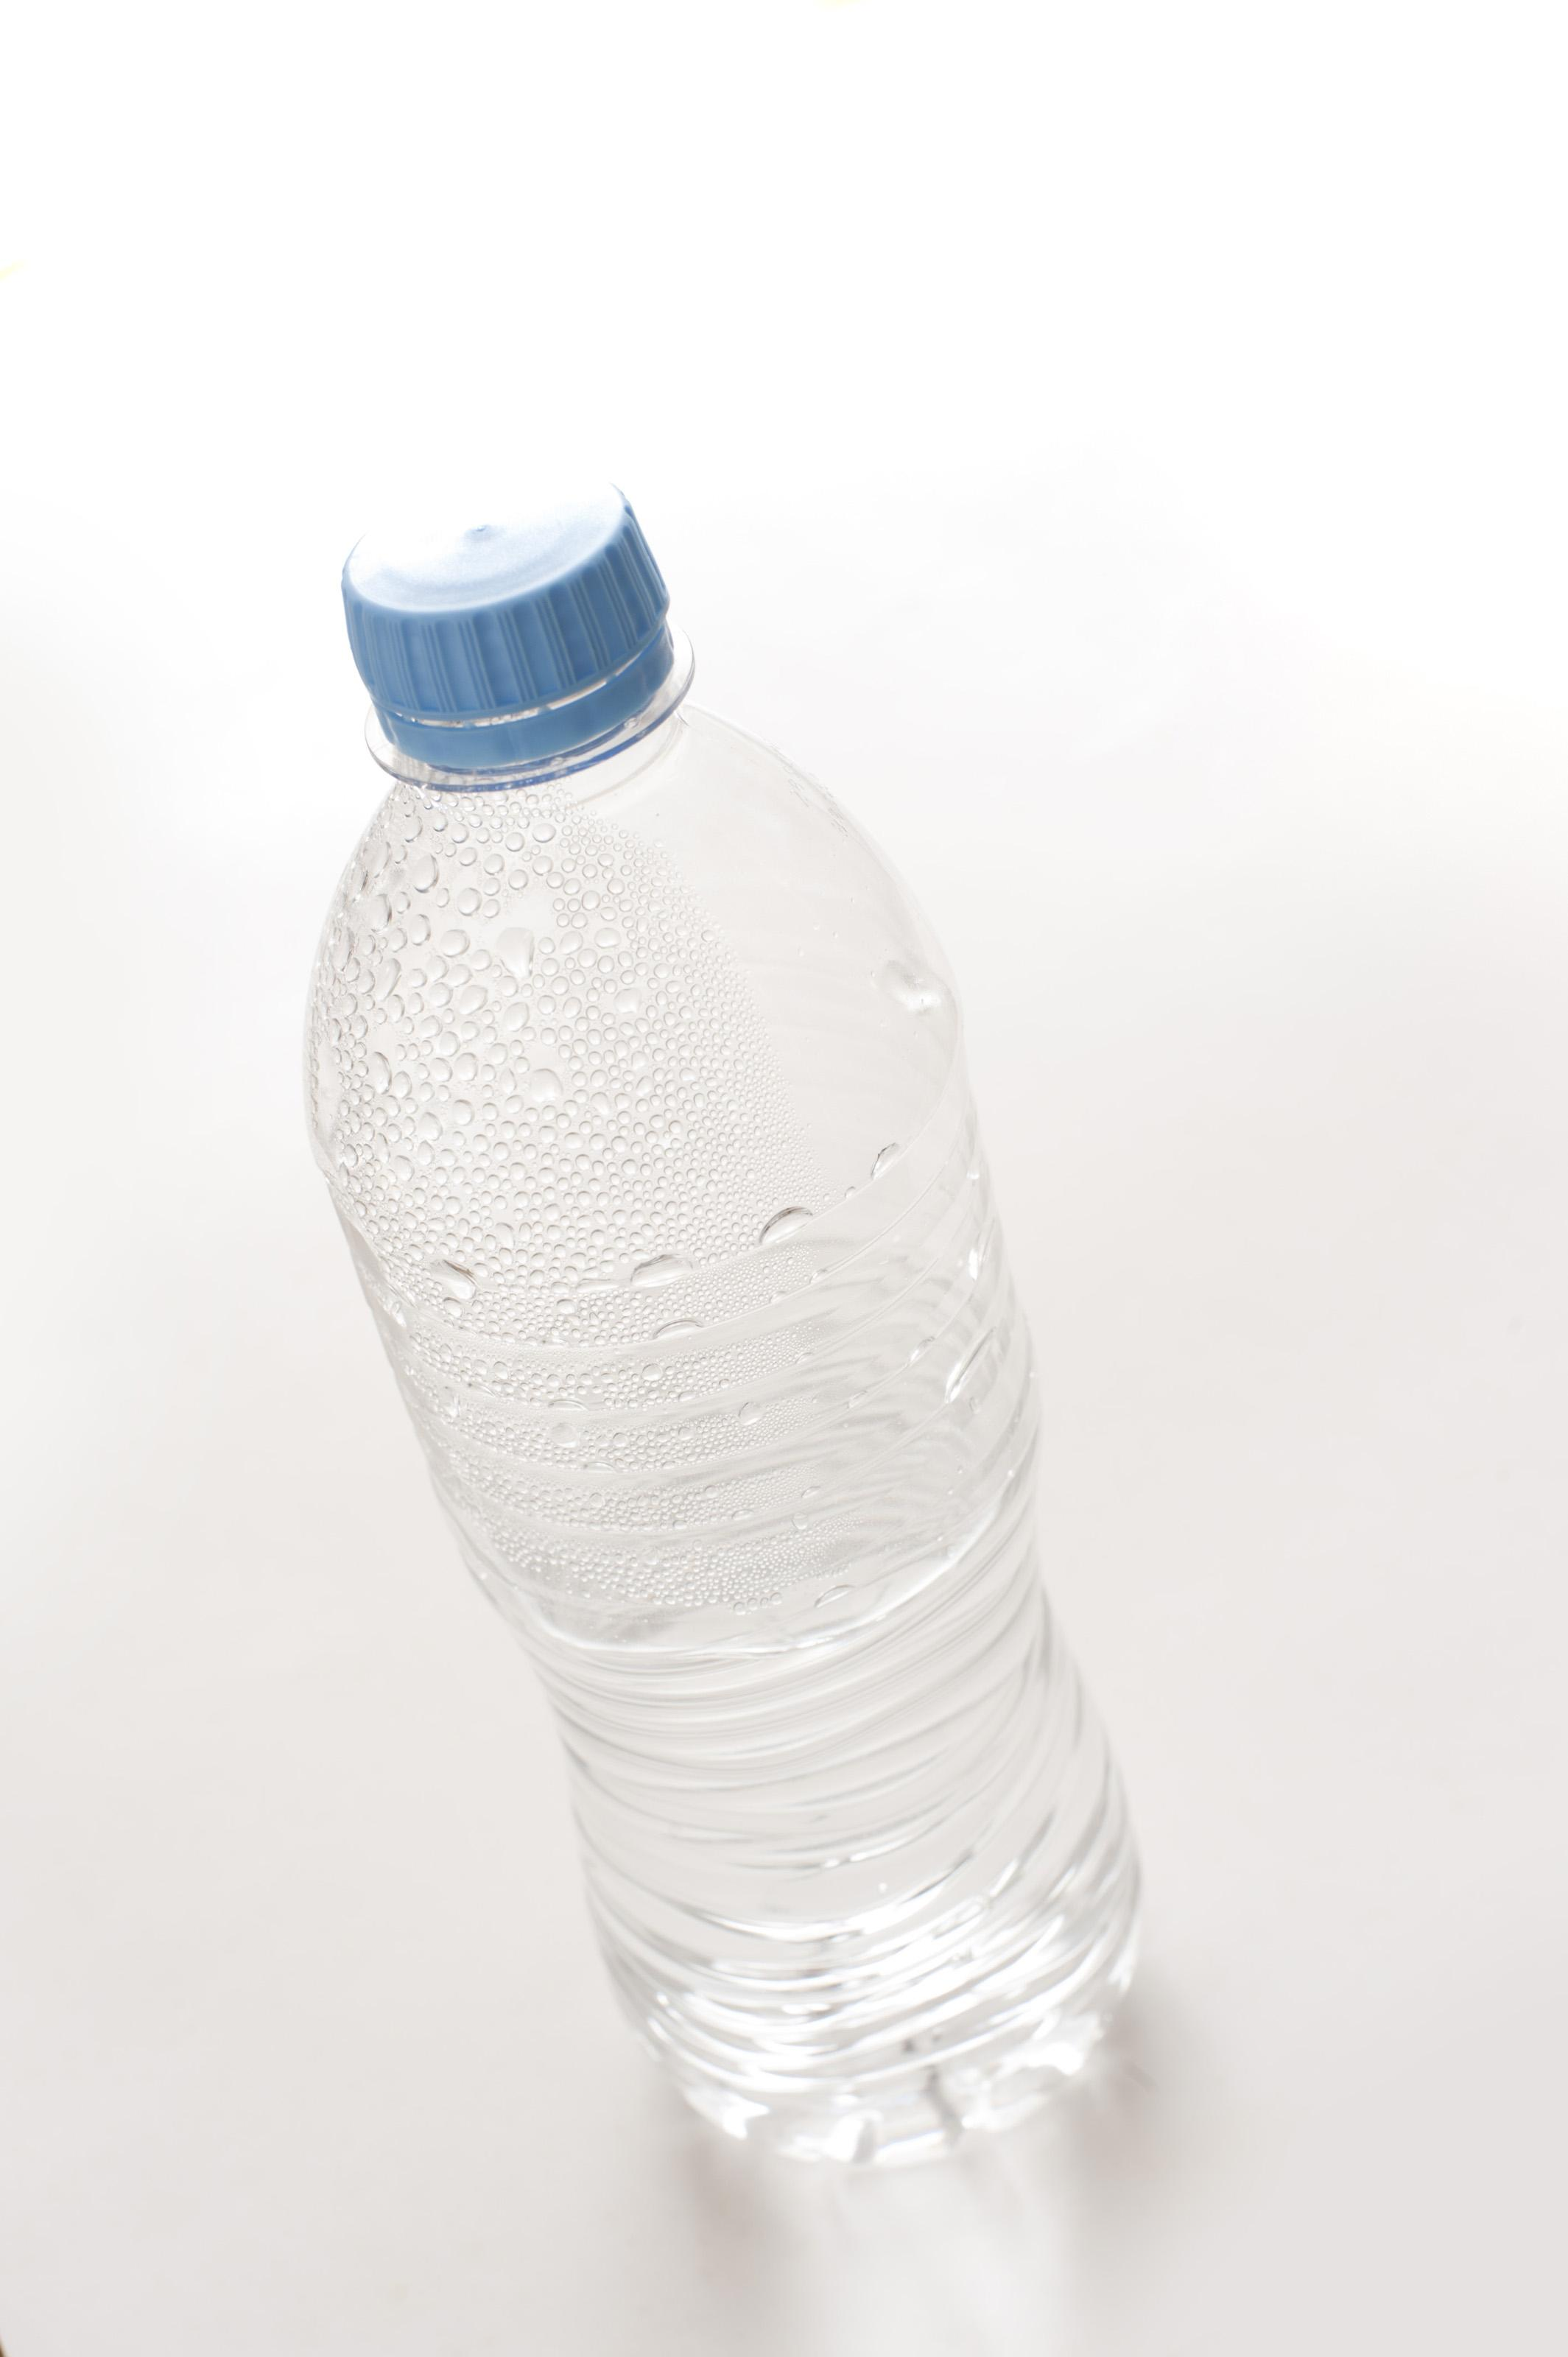bottle: (217, 399, 1309, 2306)
